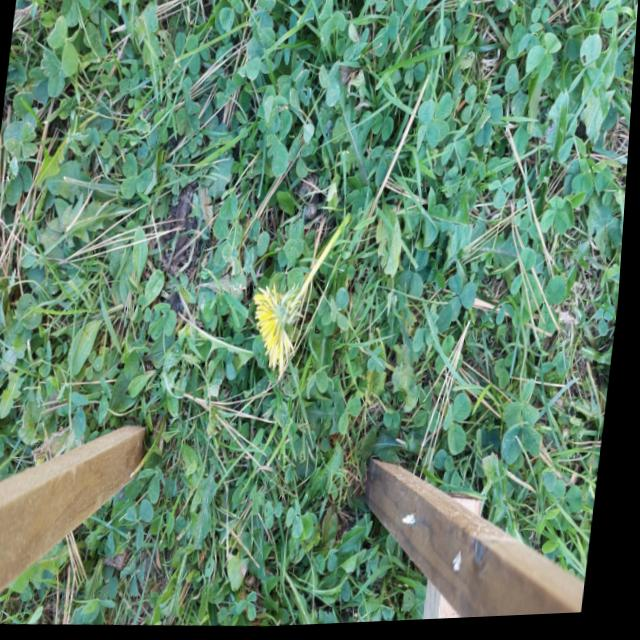base: (339, 201, 365, 243)
flower: (248, 285, 314, 369)
